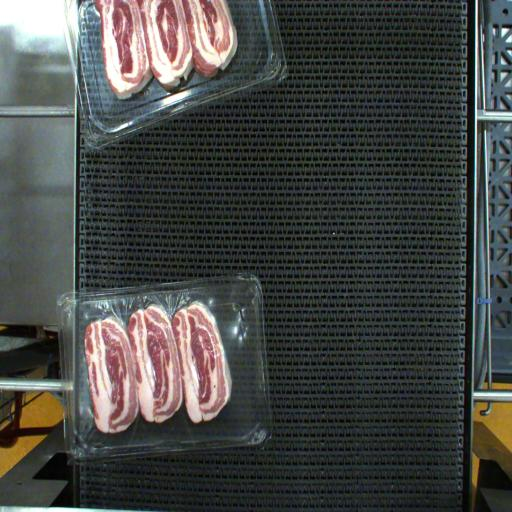unsealed: (73, 299, 211, 437)
